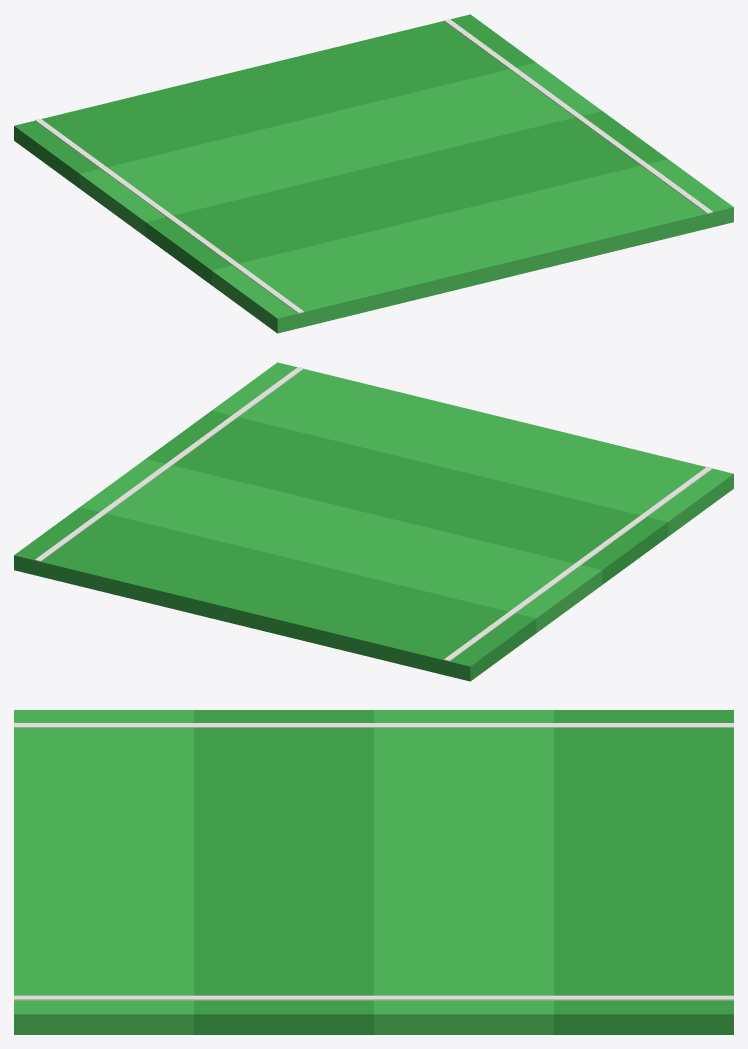
File: st_pitch.glb
3 renders of one model, top to bottom at view 1: azimuth 30°, elevation 25°; view 2: azimuth 150°, elevation 25°; view 3: azimuth 270°, elevation 25°, orthographic. The views are drawn at different scales.
Visible parts, largest first — view 1: st_pitch; view 2: st_pitch; view 3: st_pitch.
Boxes of the visible parts, x1,y1,x2,y2 form: st_pitch: (14, 14, 733, 333); st_pitch: (14, 362, 733, 681); st_pitch: (14, 710, 733, 1034).
Bounding box in the file's own units: 9.6 × 0.315 × 9.6.
